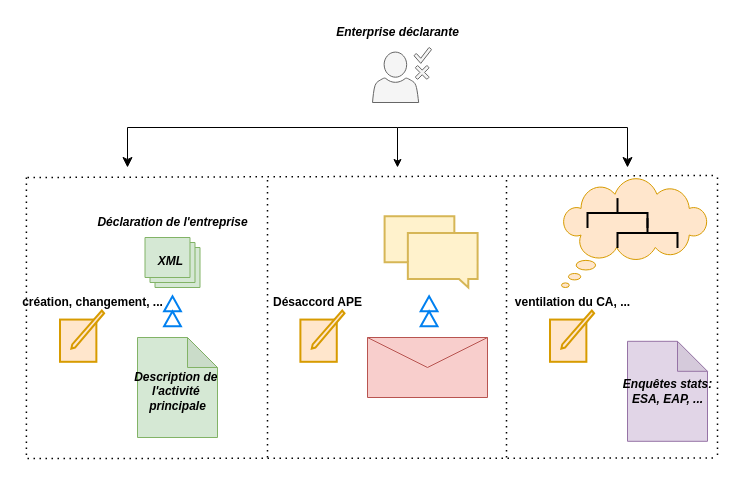
Some shapes in this 736 by 477 pixel diagram are drawn without their labels. Here are the shapes that lost their labels. From the top down, the centre of each, then its label:
At pixel 430 251: "Rectification A PE".
At pixel 427 367: "Contestations".
